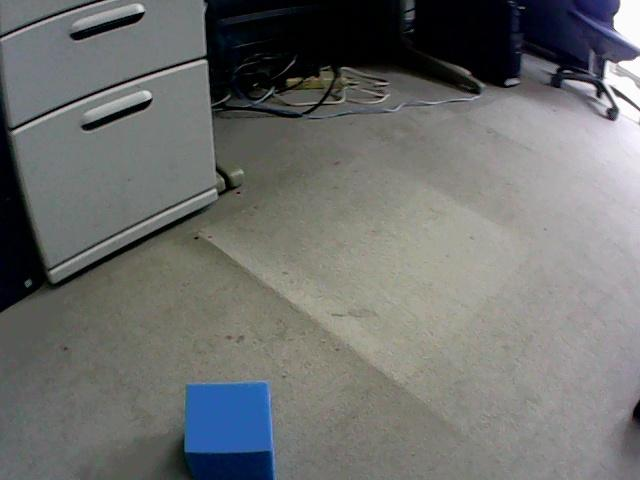blue_block: (185, 382, 274, 479)
